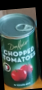tomatoes: (1, 13, 39, 88)
